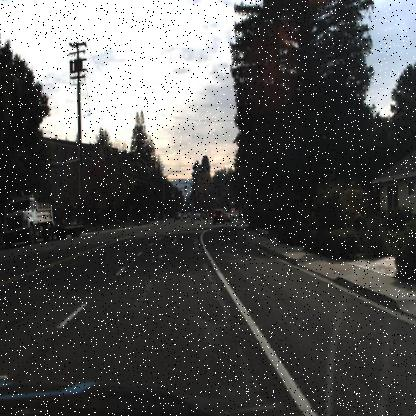car: (211, 208, 225, 226)
truck: (0, 189, 90, 249)
